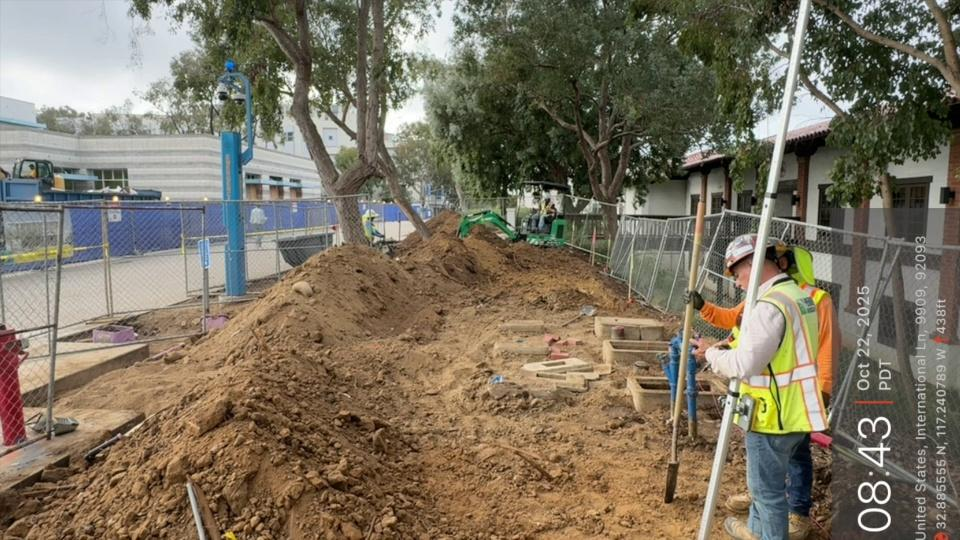Exacavator: (451, 180, 596, 271)
